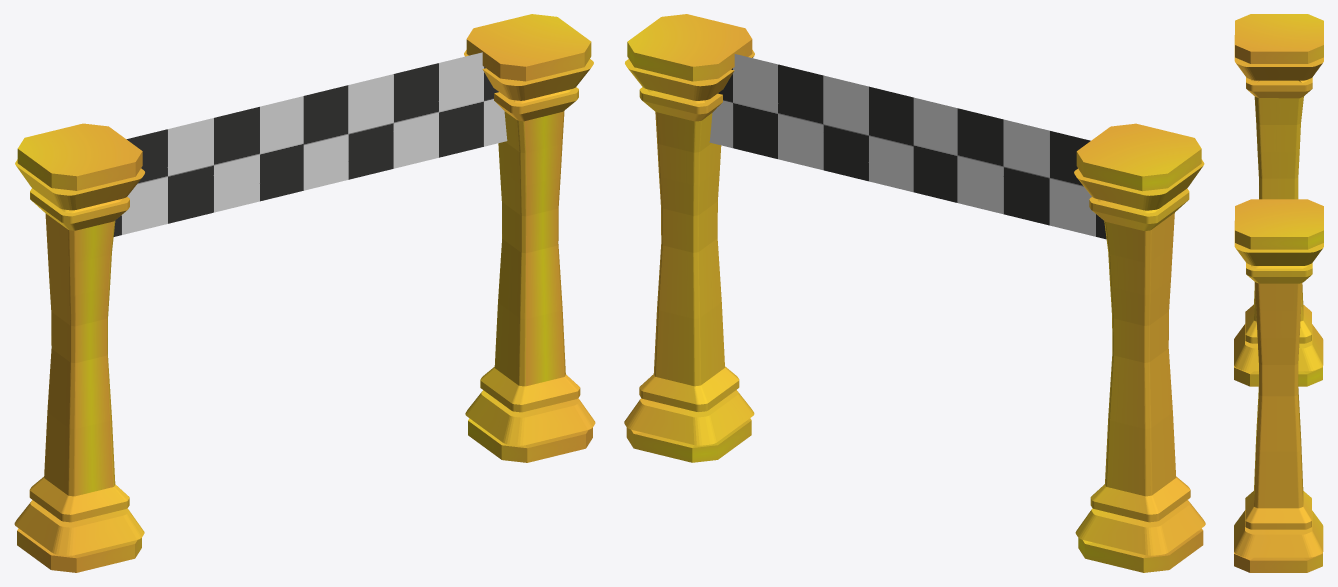
File: Finish_gate_.fbx
The picture shows the model from 3 angles, left to right: view 1: azimuth 30°, elevation 25°; view 2: azimuth 150°, elevation 25°; view 3: azimuth 270°, elevation 25°; orthographic projection. The views are drawn at different scales.
Parts seen in each view (by area): view 1: finish gate; view 2: finish gate; view 3: finish gate.
Part boxes in pixels (x1,y1,x2,y2): finish gate: [14, 14, 595, 572]; finish gate: [624, 14, 1205, 572]; finish gate: [1234, 14, 1323, 572].
Bounding box in the file's own units: 556 × 388 × 94.32.
2 materials, 2 textured.
